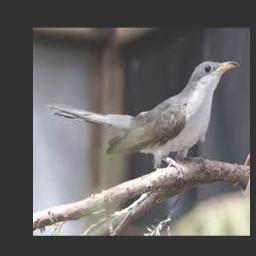Cuckoo: (45, 60, 239, 177)
